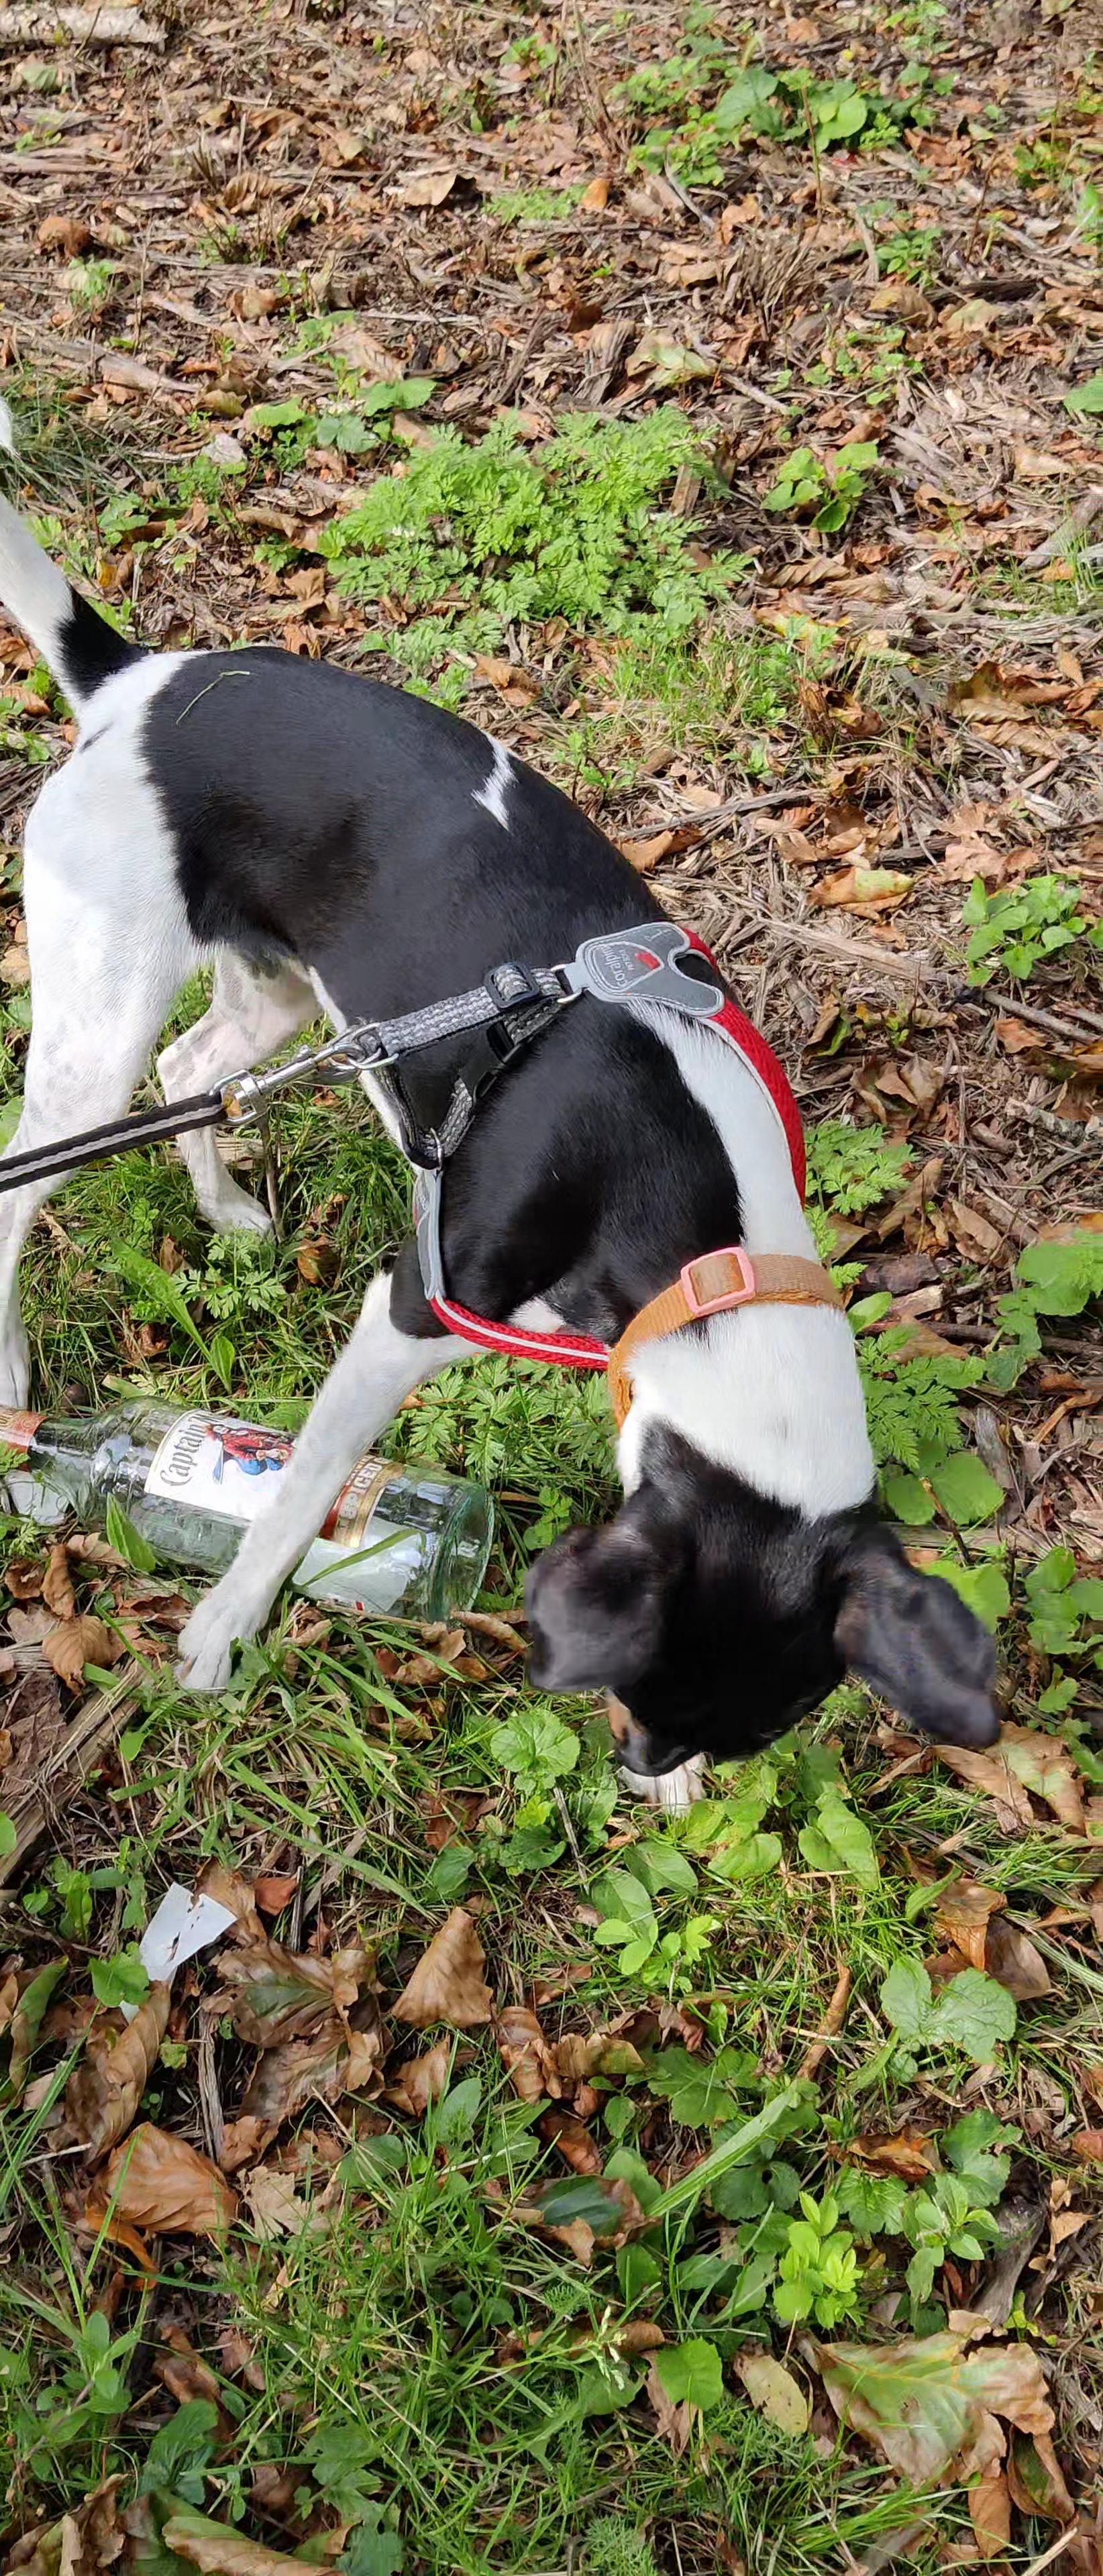Dog: (0, 471, 1016, 1781)
